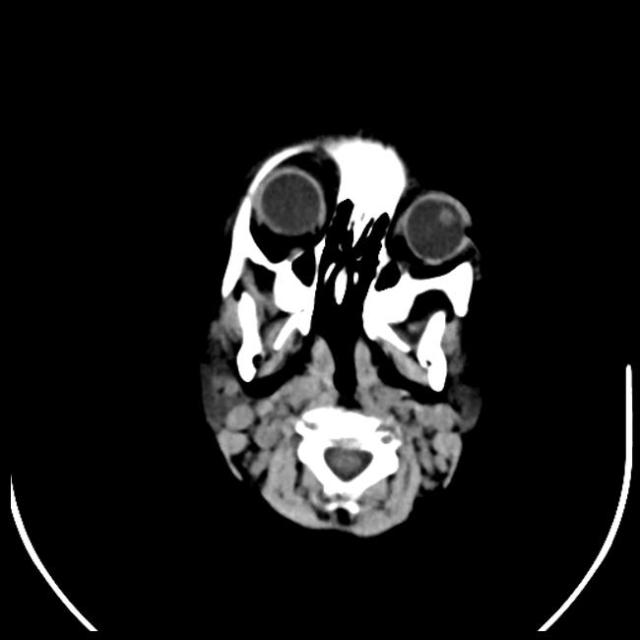lesion: (205, 310, 299, 483)
